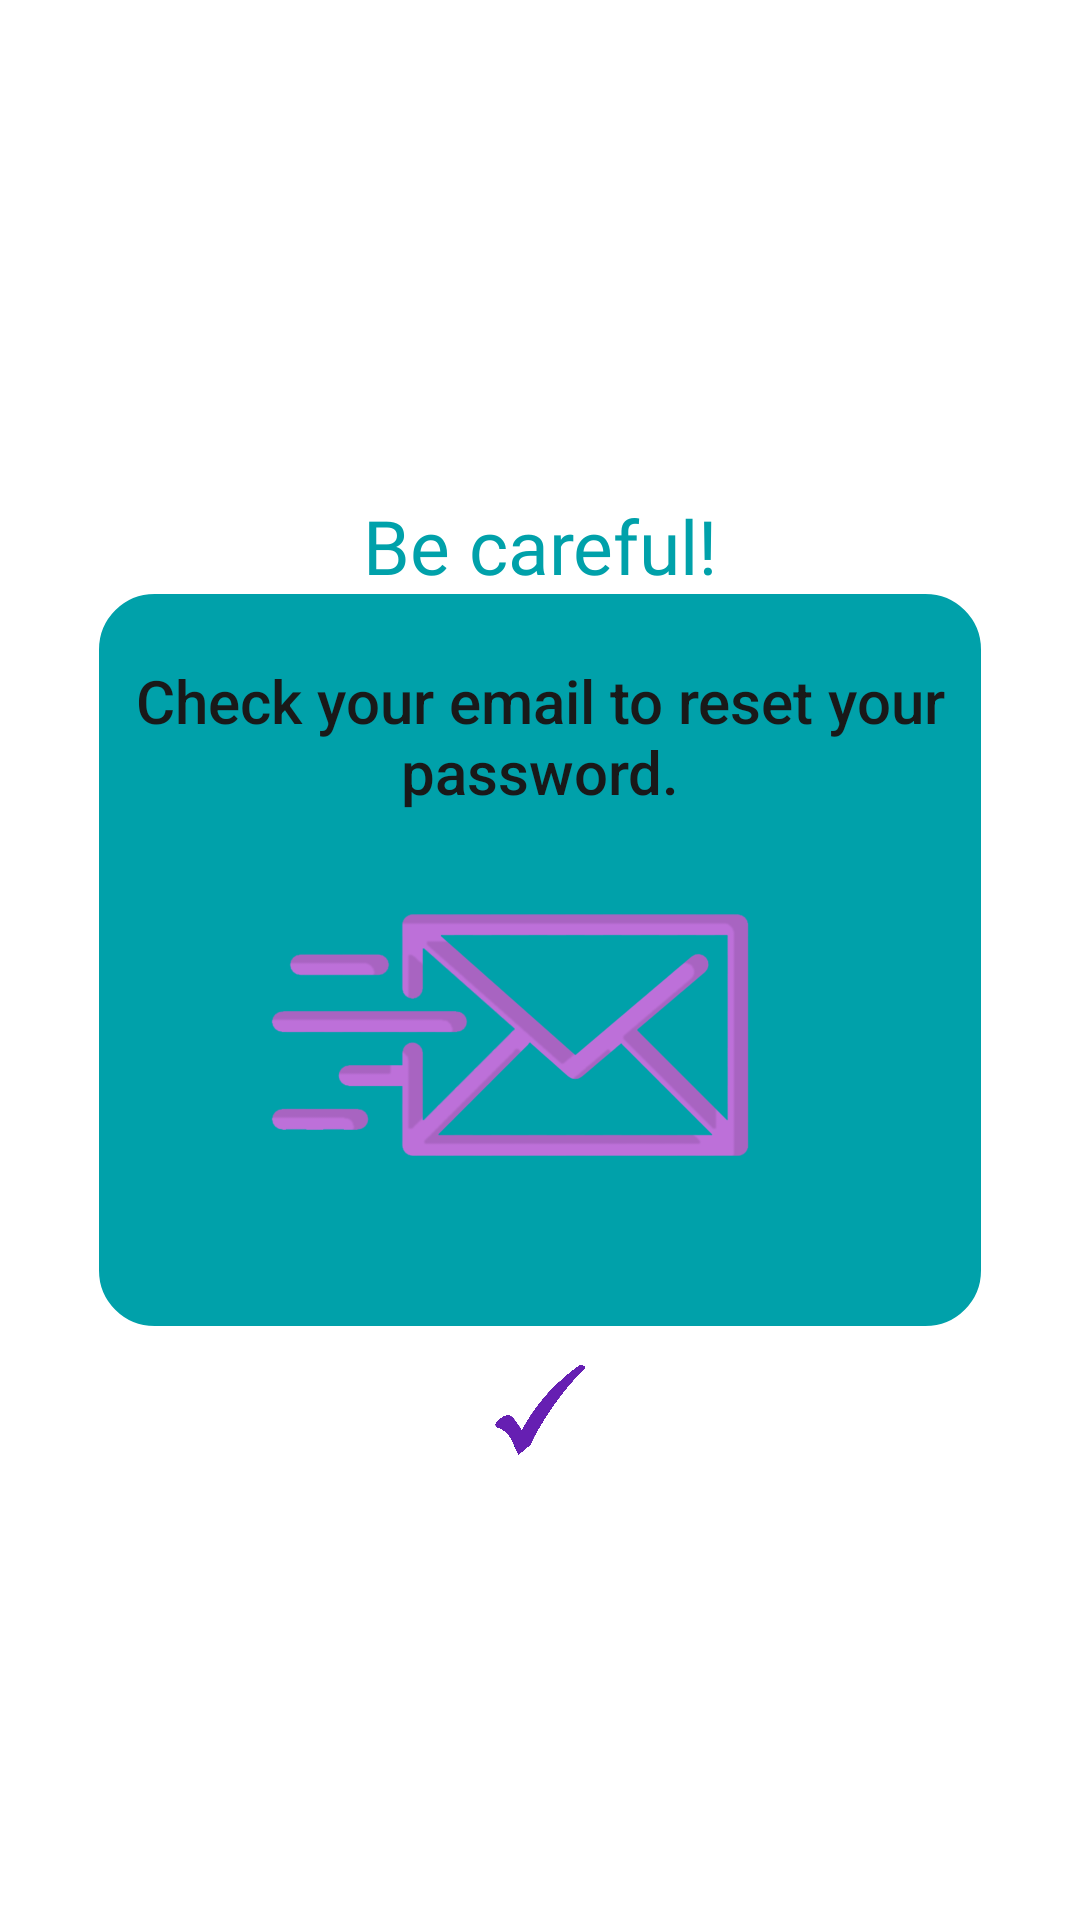

Icon bounding boxes for this 1080*1920 phone screenshot, format (x1, y1, x2, y2):
tick: (495, 1365, 585, 1455)
